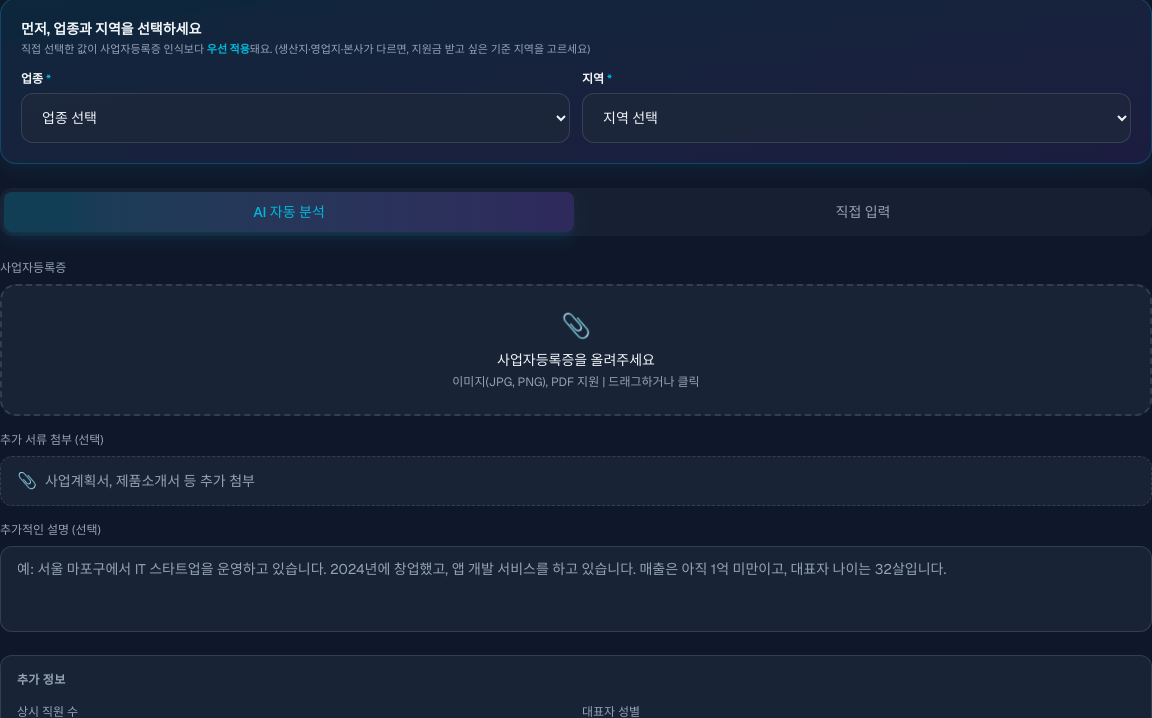
Scenario: ConditionForm: AI 분석 fetch › 분석 중에는 로딩 라벨 노출
This screenshot has width=1152, height=718.
Replace the text in the text box with placeholder "서울 마포구에서 IT 스타트업" with "테스트": x=576, y=589 left=0, top=546, right=1151, bottom=632
(page scrolled)
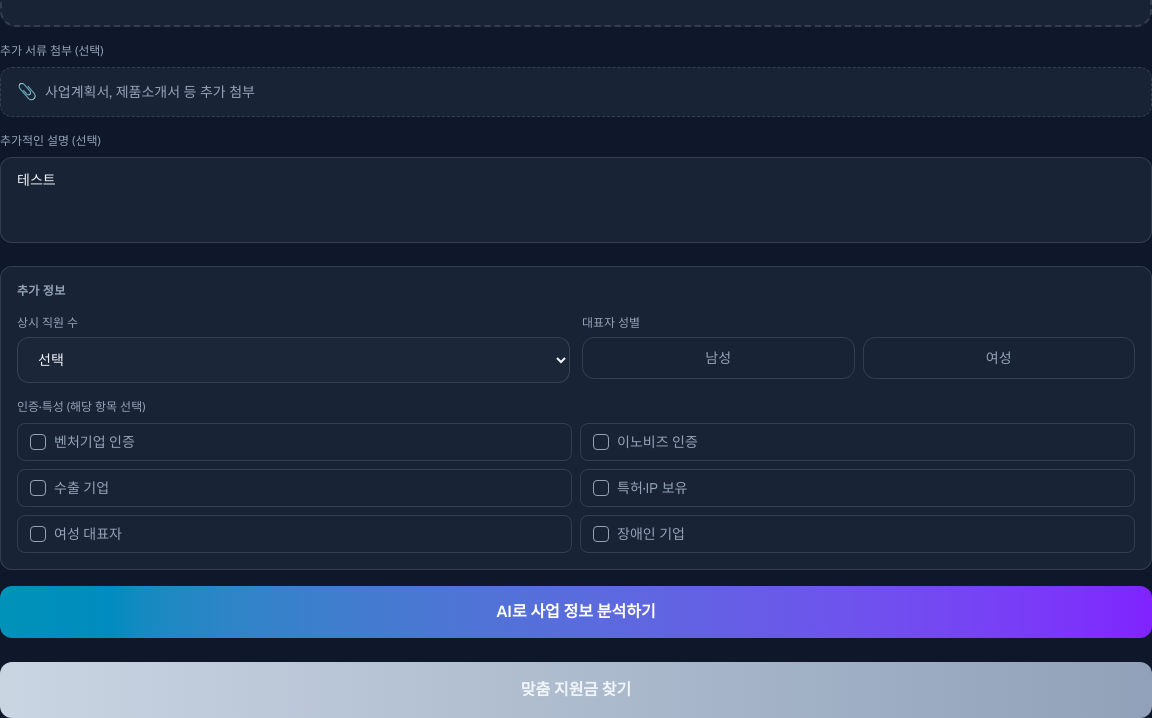
Click the button "AI로 사업 정보 분석하기": x=576, y=612 left=0, top=586, right=1151, bottom=638
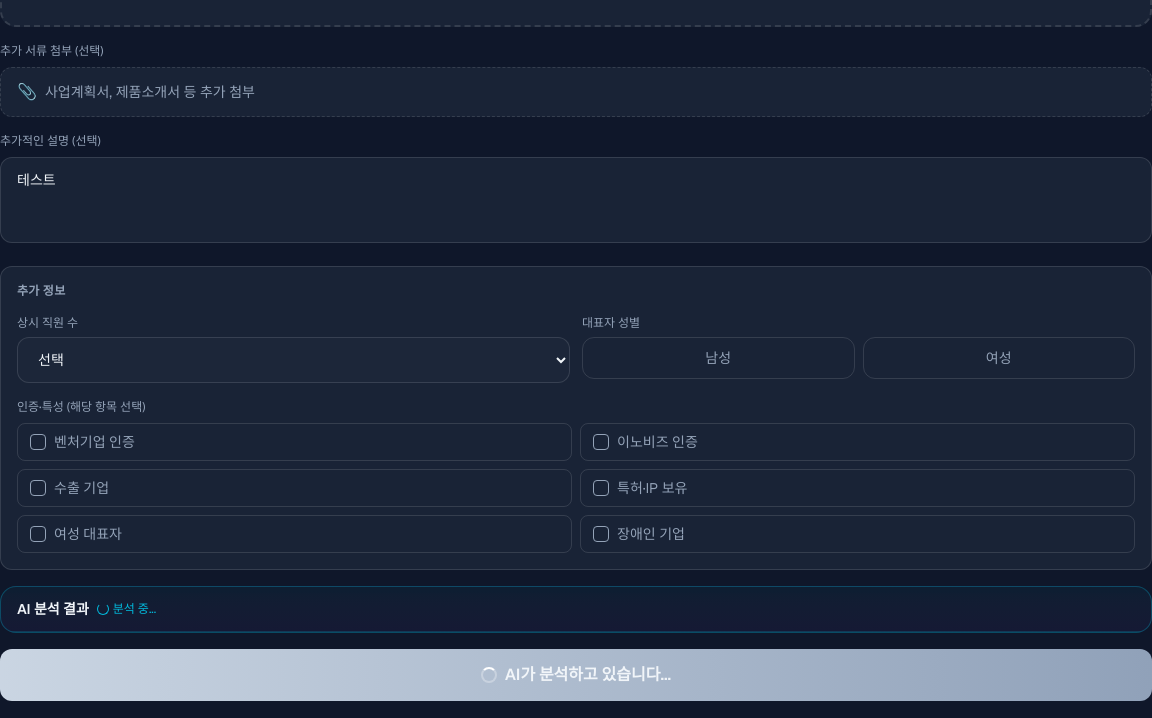
Check: the button "AI가 분석하고 있습니다..." is shown, box left=0, top=649, right=1151, bottom=701
